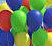Balloon: (11, 9, 27, 32), (25, 10, 43, 30), (32, 29, 48, 46), (14, 31, 30, 46), (1, 10, 12, 31), (1, 31, 13, 46), (6, 1, 21, 10)
